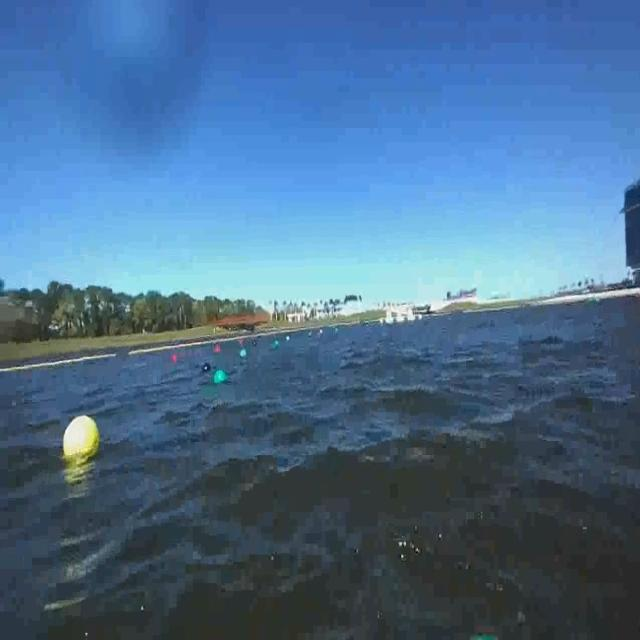black-buoy: (199, 357, 214, 377)
green-buoy: (213, 371, 227, 386)
red-buoy: (170, 354, 182, 366)
yellow-buoy: (64, 416, 100, 462)
